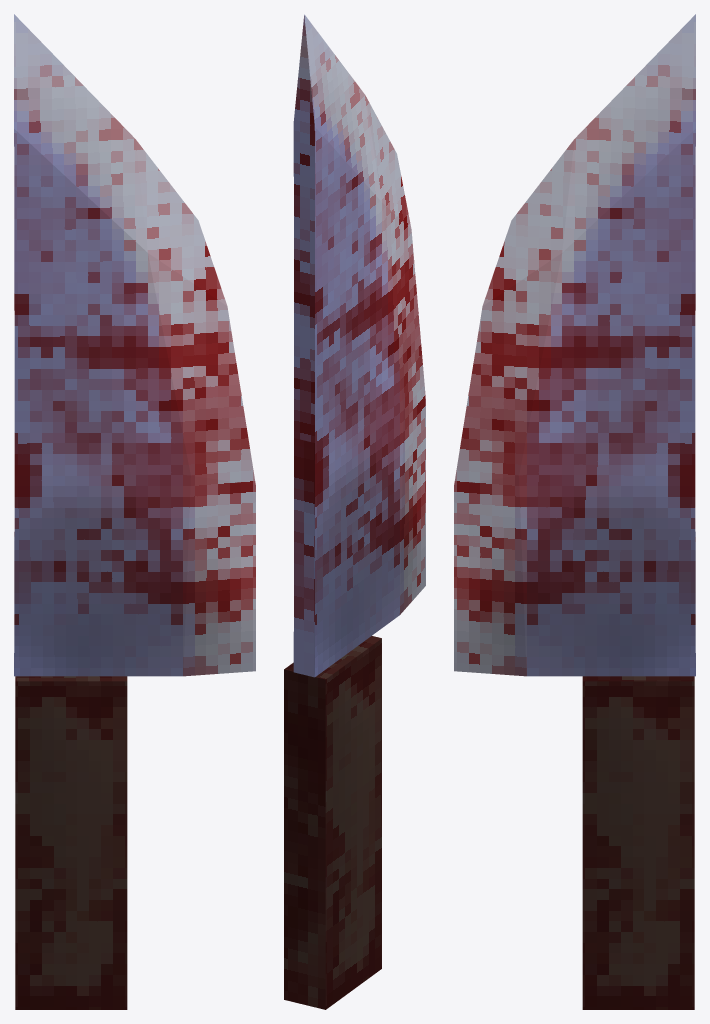
File: knife.fbx
3 renders of one model, left to right at view 1: azimuth 90°, elevation 25°; view 2: azimuth 150°, elevation 25°; view 3: azimuth 270°, elevation 25°, orthographic.
Visible parts, largest first — view 1: Knife; view 2: Knife; view 3: Knife.
Part boxes in pixels (x1,y1,x2,y2): Knife: [14, 14, 255, 1009]; Knife: [284, 14, 425, 1009]; Knife: [454, 14, 695, 1009].
Size of the model in its own units: 15.81 by 360 by 80.
1 material, 1 textured.
